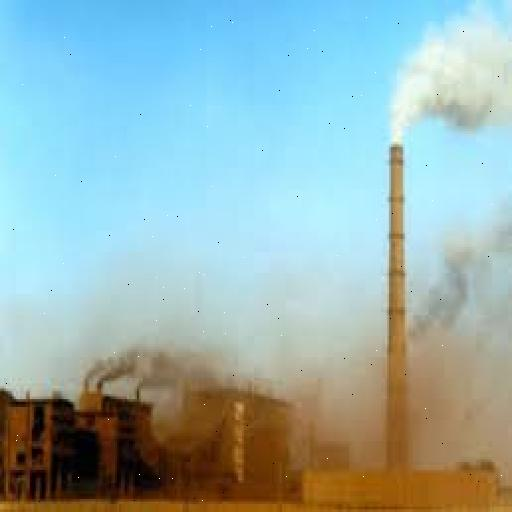smoke: (141, 328, 512, 504), (391, 3, 512, 202)
